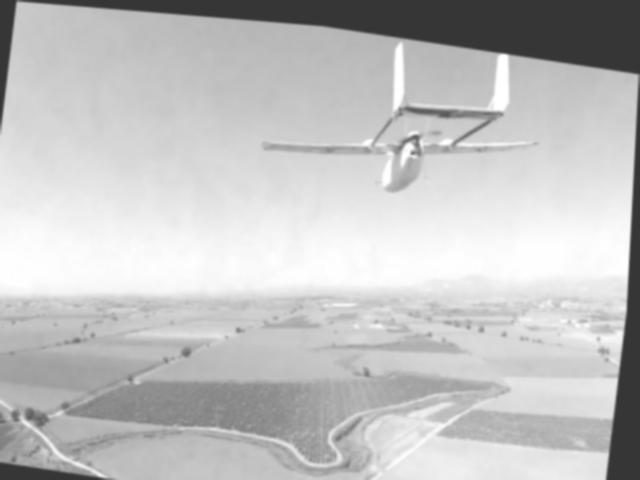hedef: (247, 17, 551, 304)
